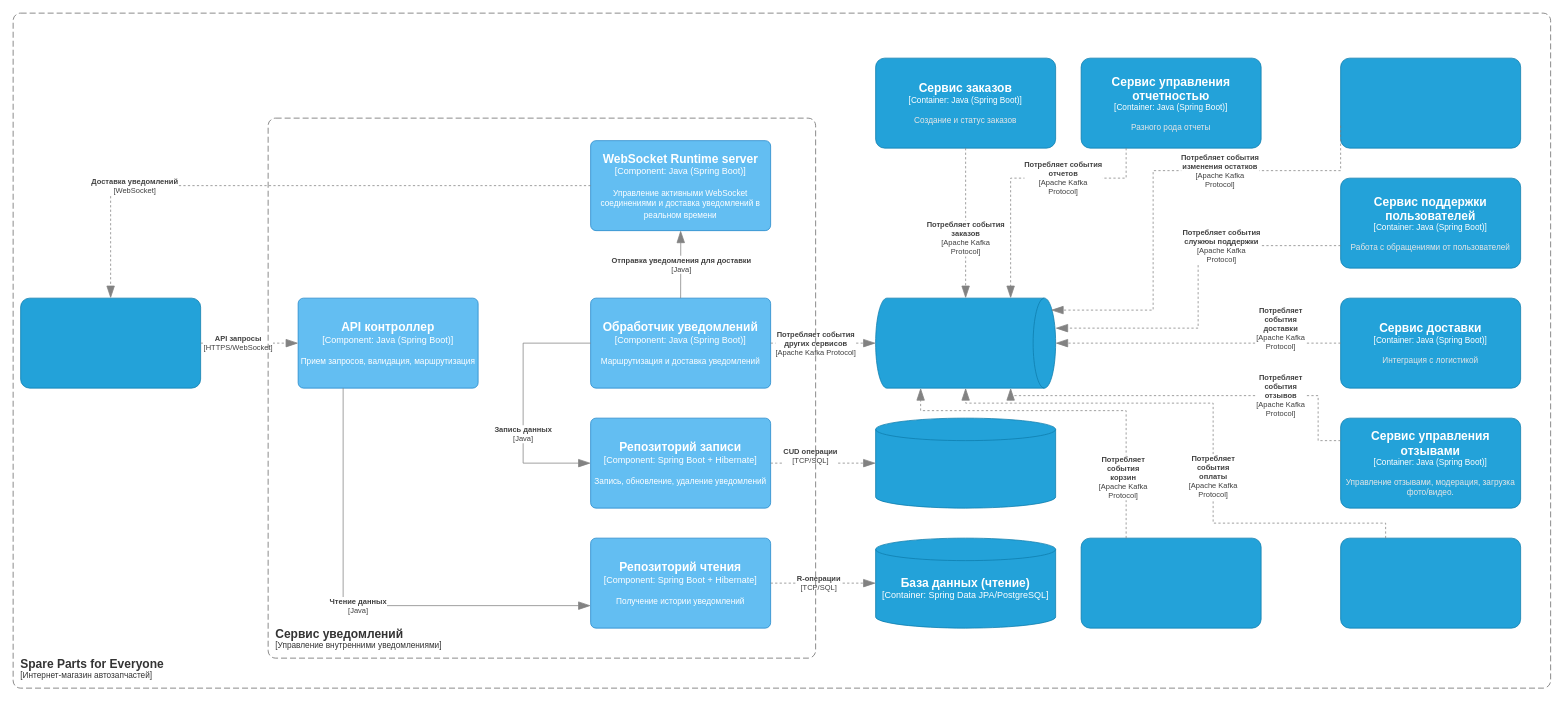
Some shapes in this 1564 by 701 pixel diagram are drawn without their labels. Here are the shapes that lost their labels. From the top down, the centre of each, then its label:
pixel 1430 102: Сервис остатков товаров [Container: Java (Spring Boot)] Остатки, резервирование
pixel 110 342: API Gateway [Container: Spring Cloud]
pixel 965 342: Брокер сообщений [Container: Apache Kafka]
pixel 965 462: База данных (запись) [Container: Spring Data JPA/PostgreSQL]
pixel 1170 582: Сервис корзины [Container: Java (Spring Boot)] Управление корзиной
pixel 1430 582: Сервис оплаты [Container: Java (Spring Boot)] Интеграция с платежными системами
